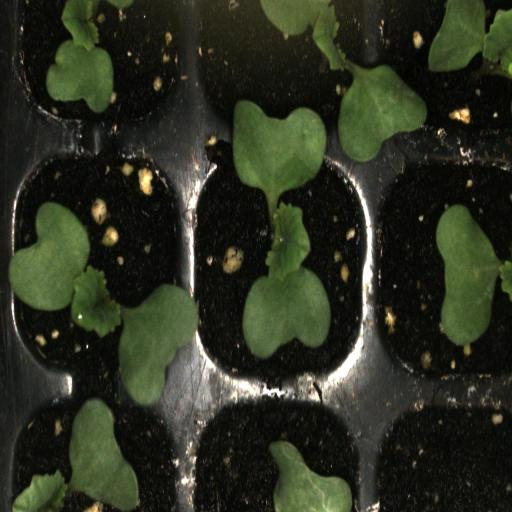Germinacao: (184, 134, 376, 388), (5, 145, 186, 385), (373, 144, 512, 390), (187, 0, 379, 152), (7, 0, 183, 142), (7, 386, 186, 512)
